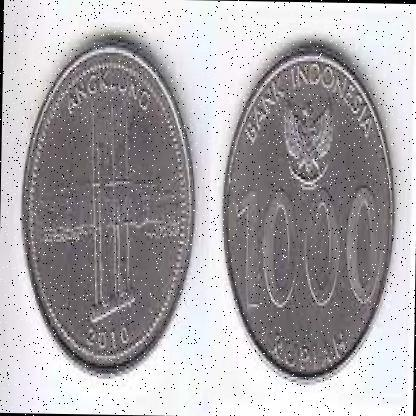coin_1000_e2010: (222, 46, 401, 383), (21, 42, 195, 378)
